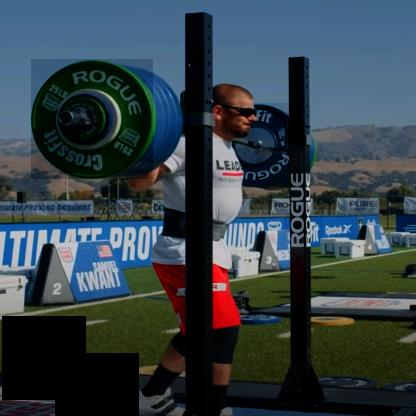barbell: (32, 60, 154, 180), (211, 104, 302, 189)
